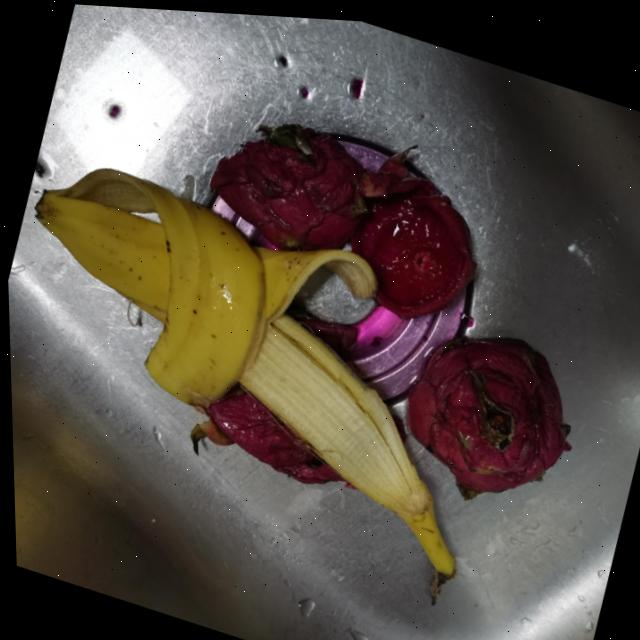Wet: (1, 29, 637, 635)
